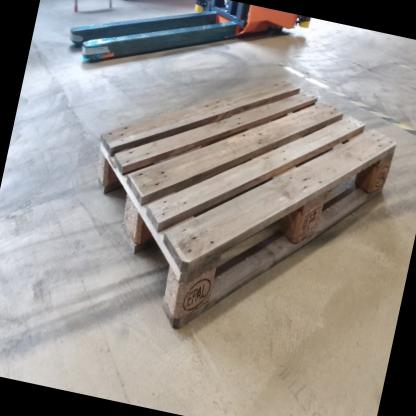BoxFace: (94, 73, 401, 336)
